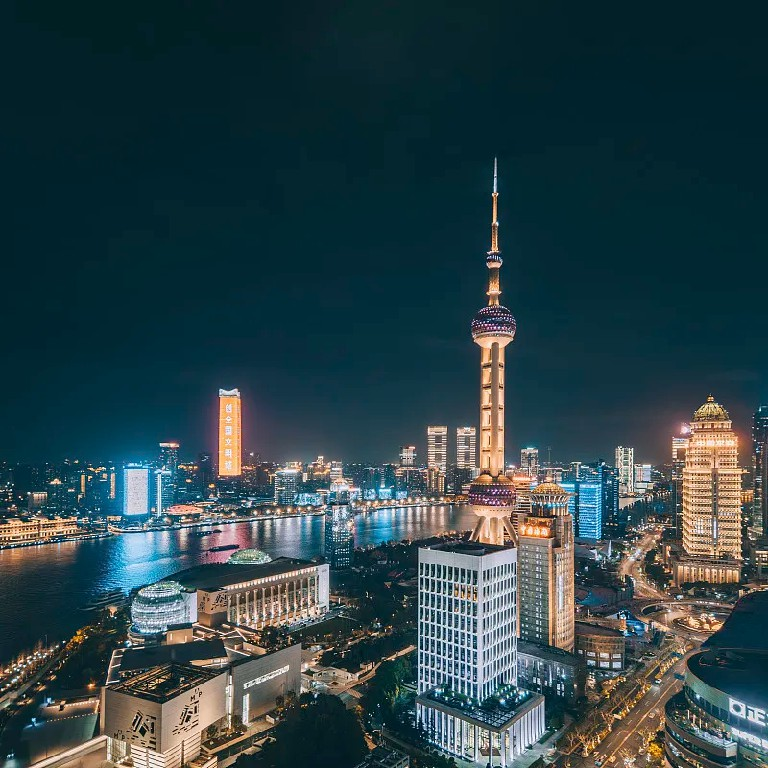Oriental: (468, 157, 519, 547)
